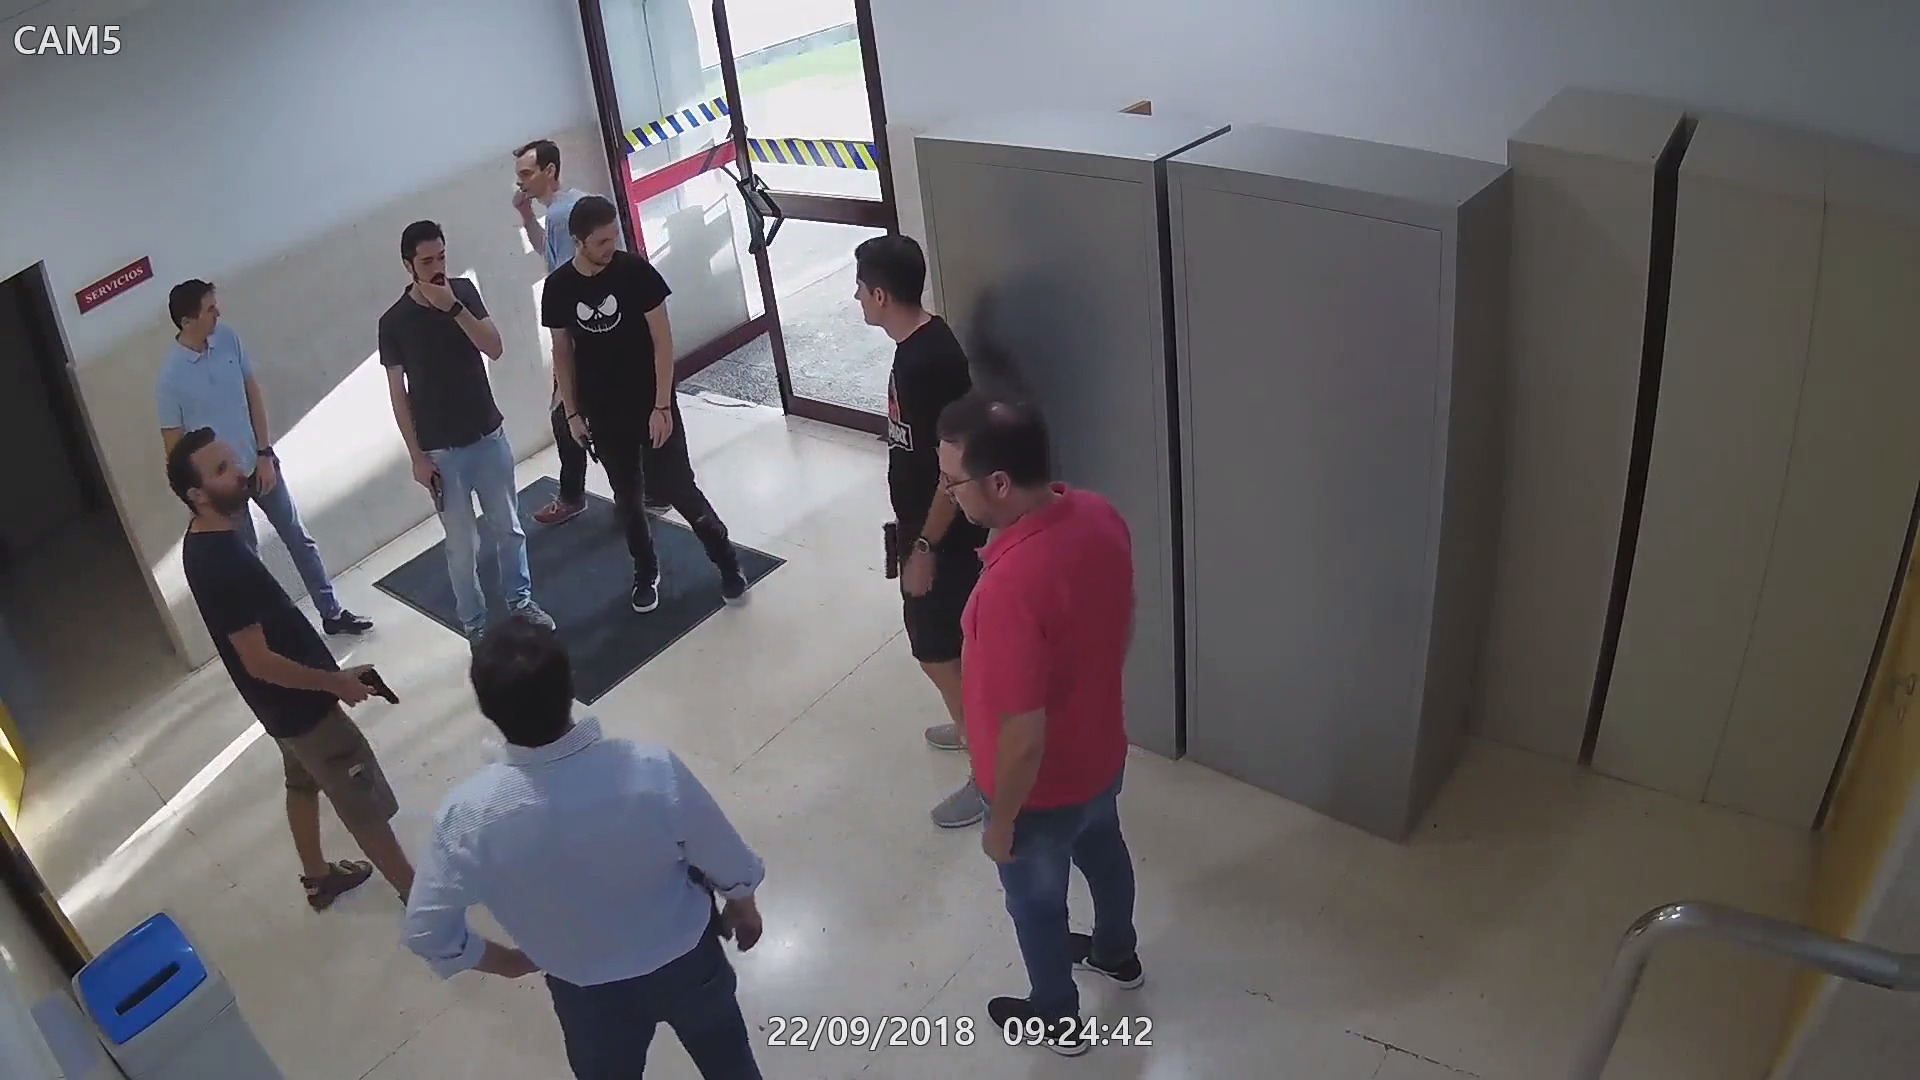Handgun: (338, 665, 405, 712), (694, 866, 729, 939), (568, 413, 605, 469), (411, 458, 448, 512), (880, 518, 909, 582)
